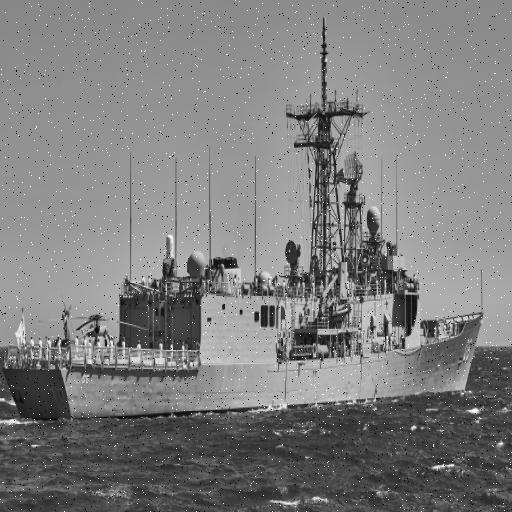Fragata: (2, 11, 487, 430)
